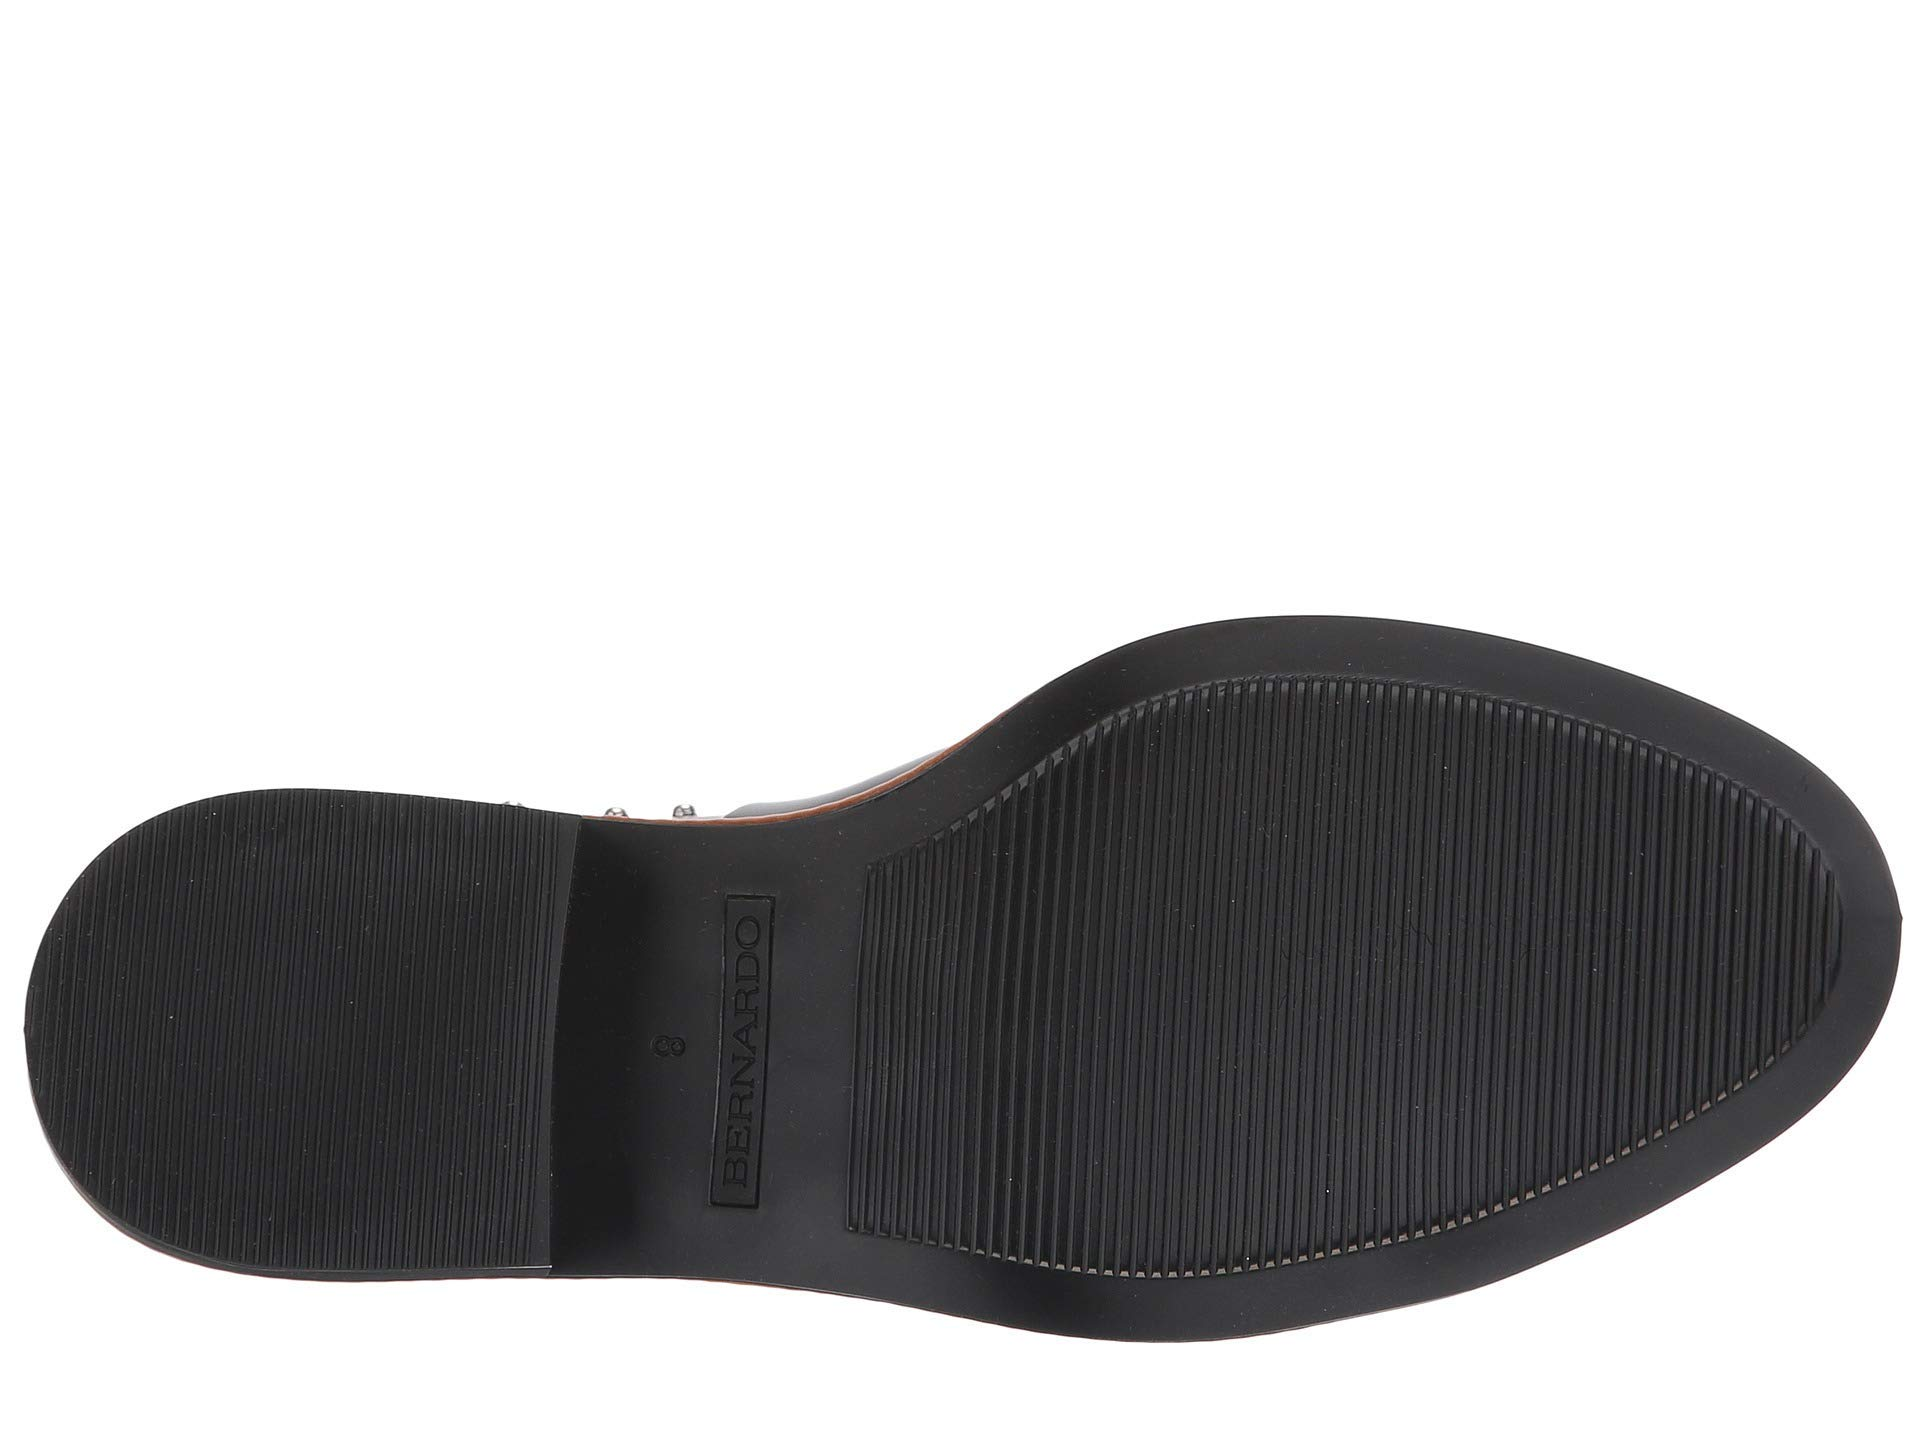line: (1043, 871, 1383, 1201), (168, 882, 457, 1216)
